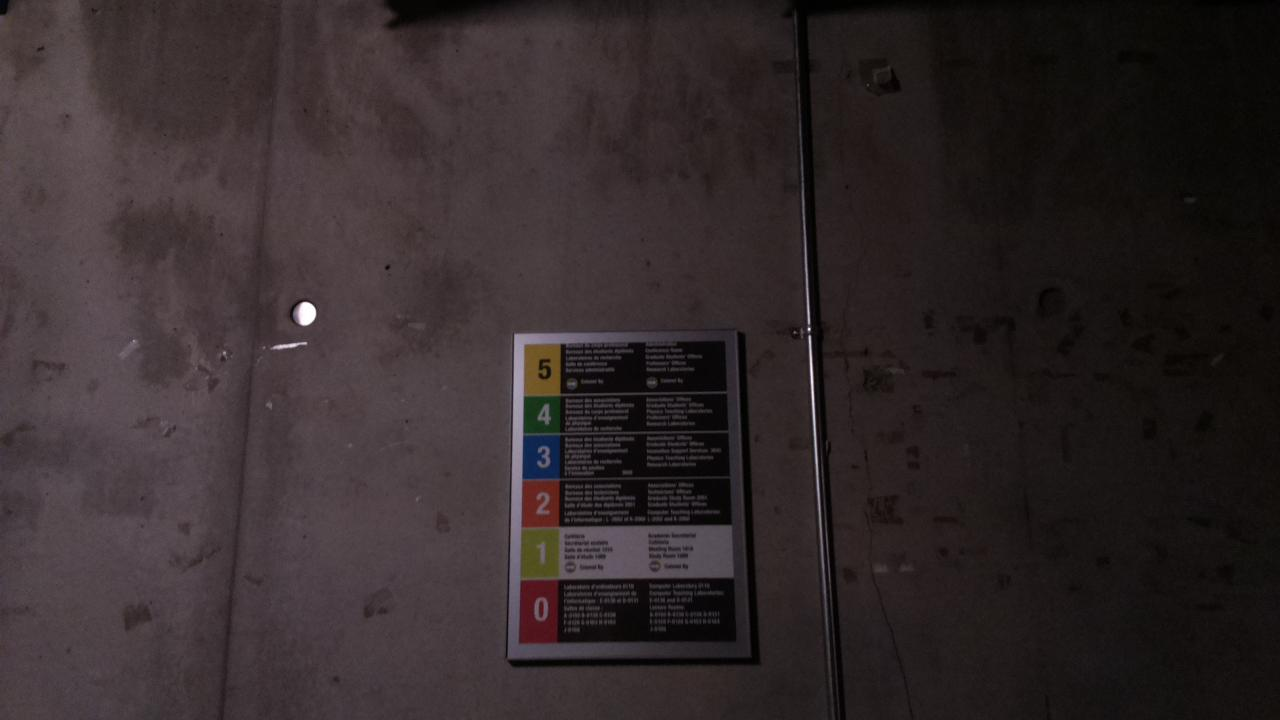sign: (508, 331, 748, 655)
